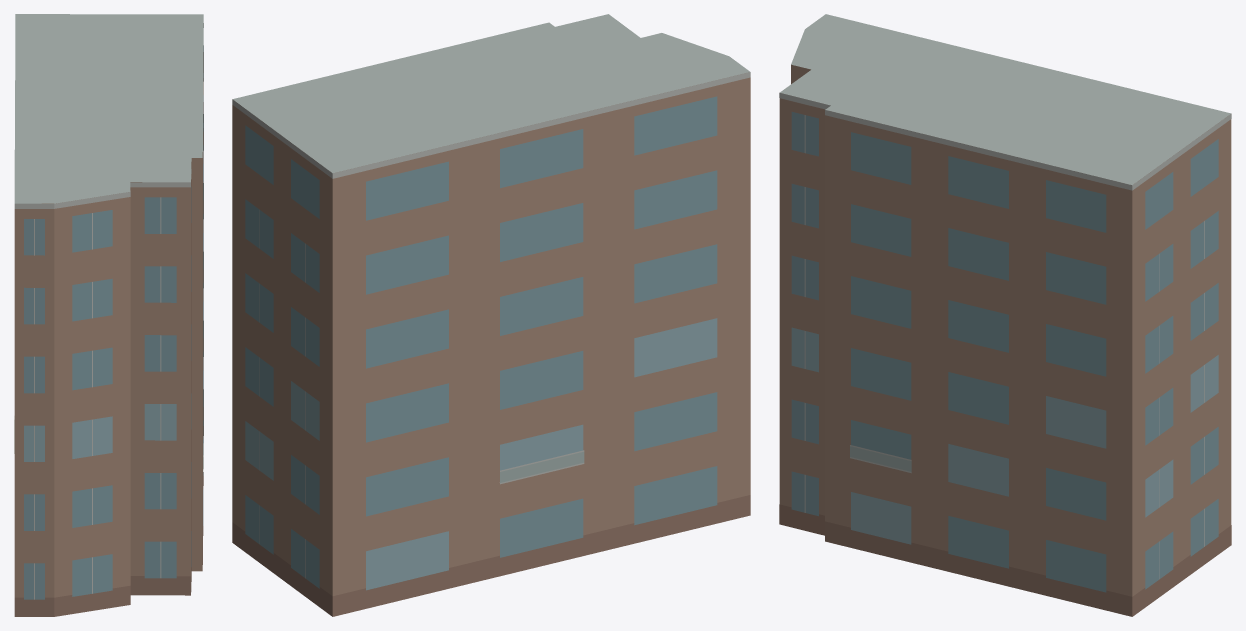
Rendered from survey-upis-33033164.glb.
The picture shows the model from 3 angles, left to right: view 1: azimuth 30°, elevation 25°; view 2: azimuth 150°, elevation 25°; view 3: azimuth 270°, elevation 25°; orthographic projection. The views are drawn at different scales.
Visible parts, largest first — view 1: survey-upis-33033164.tmp; view 2: survey-upis-33033164.tmp; view 3: survey-upis-33033164.tmp.
Boxes of the visible parts, box(x1,y1,x2,y2) form: survey-upis-33033164.tmp: box(14, 14, 203, 616); survey-upis-33033164.tmp: box(232, 14, 750, 616); survey-upis-33033164.tmp: box(779, 14, 1231, 616).
Bounding box in the file's own units: 16.6 × 19.5 × 18.52.
